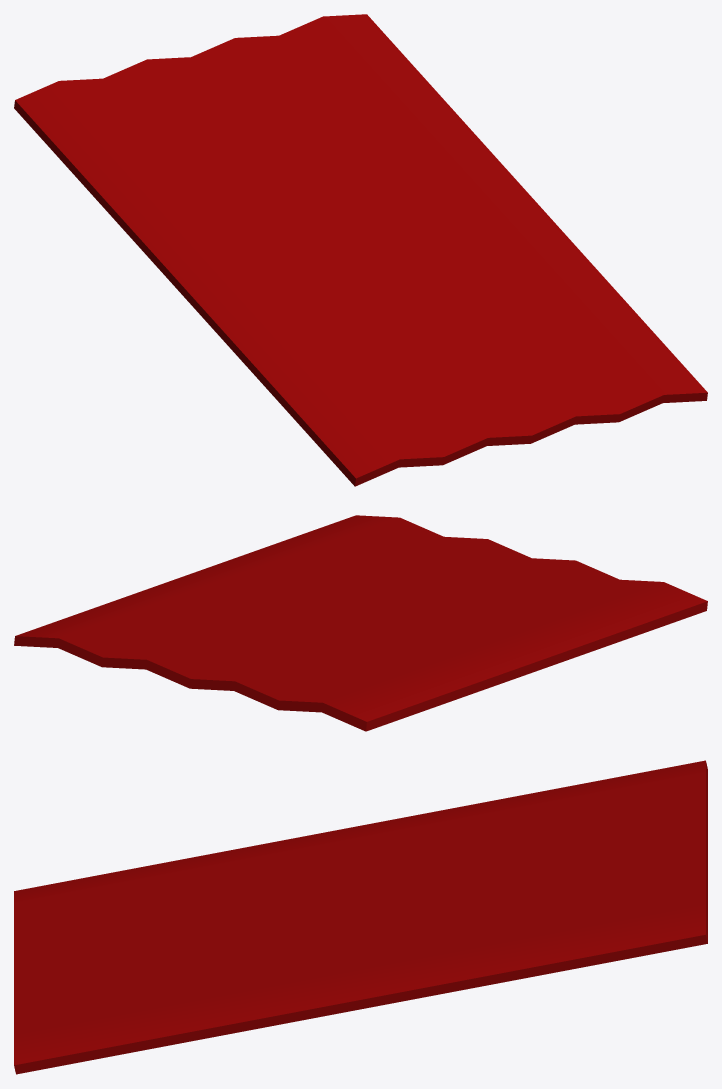
Rendered from planche_de_saut.fbx.
3 views of the same model, one above another, from view 1: azimuth 30°, elevation 25°; view 2: azimuth 150°, elevation 25°; view 3: azimuth 270°, elevation 25° (orthographic).
Parts seen in each view (by area): view 1: planche_de_saut1; view 2: planche_de_saut1; view 3: planche_de_saut1.
Part boxes in pixels (x1,y1,x2,y2): planche_de_saut1: [14, 14, 707, 486]; planche_de_saut1: [14, 515, 707, 731]; planche_de_saut1: [14, 760, 707, 1074].
Size of the model in its own units: 91.29 by 36.25 by 154.
